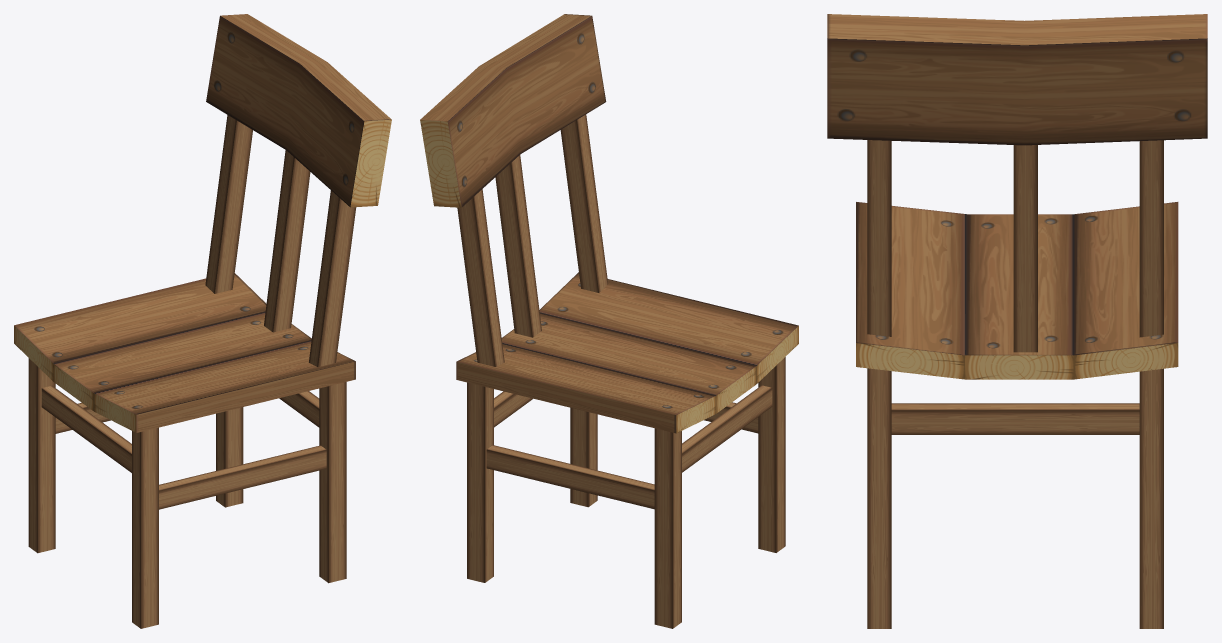
The model's file is Chair_01.FBX.
The picture shows the model from 3 angles, left to right: view 1: azimuth 30°, elevation 25°; view 2: azimuth 150°, elevation 25°; view 3: azimuth 270°, elevation 25°; orthographic projection. The views are drawn at different scales.
Visible parts, largest first — view 1: Chair_01; view 2: Chair_01; view 3: Chair_01.
Part boxes in pixels (left/top/right/bottom): Chair_01: left=14, top=14, right=391, bottom=628; Chair_01: left=420, top=14, right=798, bottom=628; Chair_01: left=827, top=14, right=1207, bottom=628.
Size of the model in its own units: 0.7066 by 1.24 by 0.6917.
